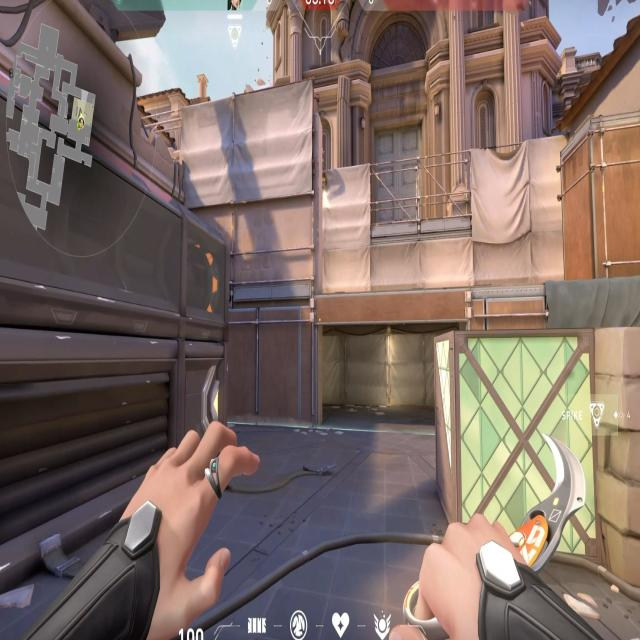A_Heaven_Box: (211, 76, 338, 283), (554, 104, 640, 280)
A_Hell: (299, 283, 473, 453)
